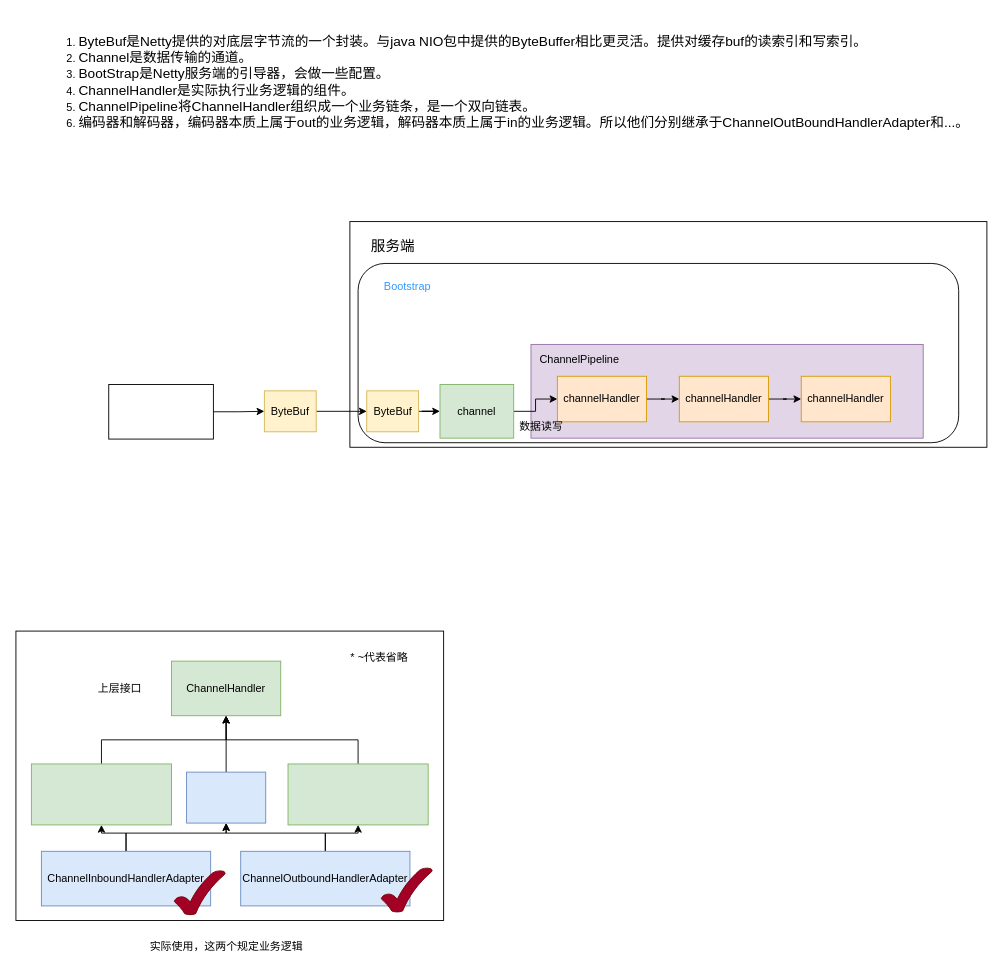
Image size: 1003x974. Some labels were removed from this diagram. The centre of each missing label's shape, as x and y in pixels:
ChannelInboundHandler: the point at 101,794
ChannelOutboundHandler: the point at 357,794
~Adapter: the point at 226,797
客户端: the point at 160,411
